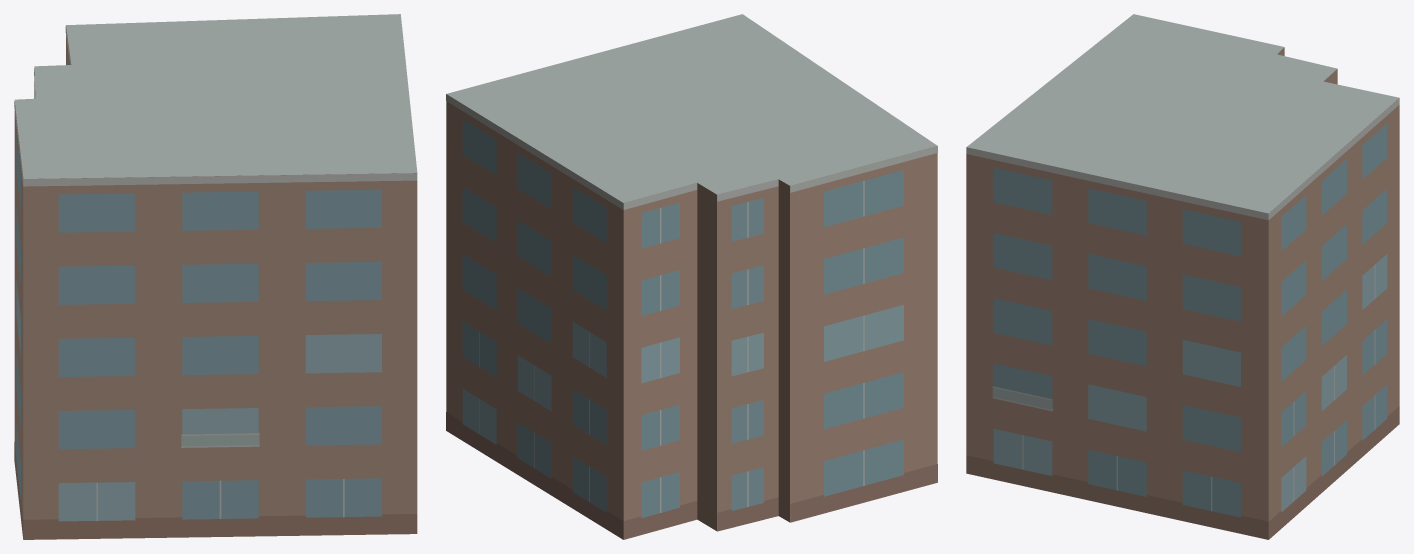
File: survey-upis-33034440.glb
3 views of the same model, side by side, from view 1: azimuth 30°, elevation 25°; view 2: azimuth 150°, elevation 25°; view 3: azimuth 270°, elevation 25° (orthographic). The views are drawn at different scales.
Visible parts, largest first — view 1: survey-upis-33034440.tmp; view 2: survey-upis-33034440.tmp; view 3: survey-upis-33034440.tmp.
Boxes of the visible parts, x1,y1,x2,y2 form: survey-upis-33034440.tmp: (14, 14, 417, 539); survey-upis-33034440.tmp: (446, 14, 937, 539); survey-upis-33034440.tmp: (966, 14, 1399, 539).
Bounding box in the file's own units: 15.35 × 11.7 × 14.08.
